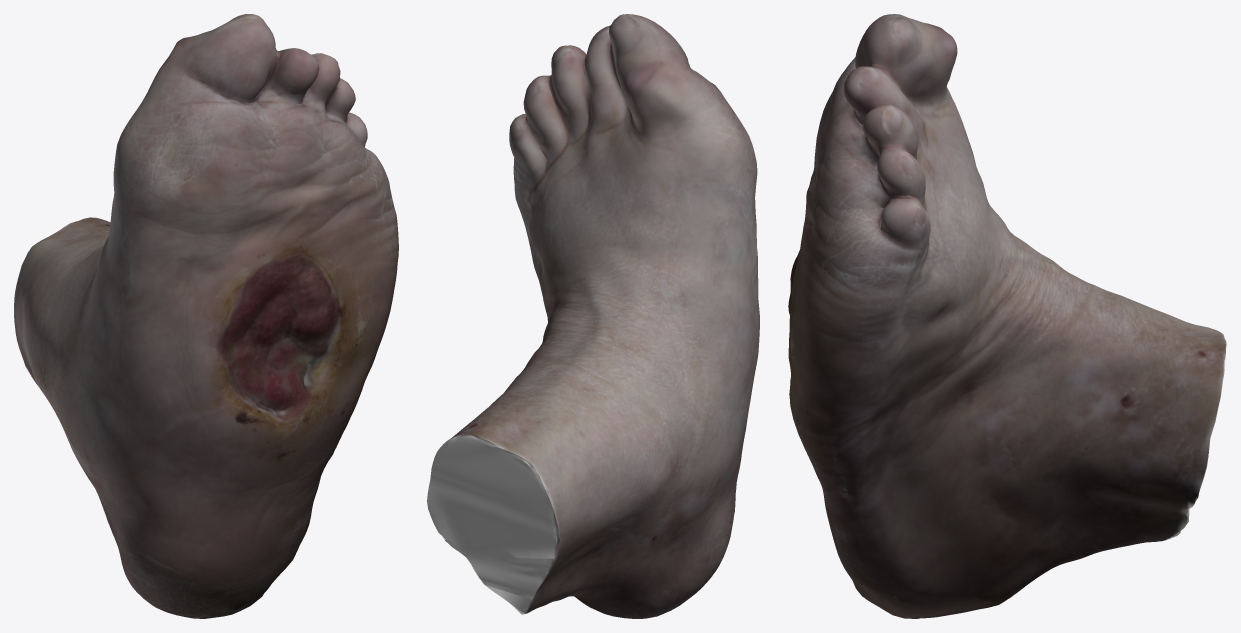
Rendered from JanelleFoot_first.glb.
3 renders of one model, left to right at view 1: azimuth 30°, elevation 25°; view 2: azimuth 150°, elevation 25°; view 3: azimuth 270°, elevation 25°, orthographic. The views are drawn at different scales.
Visible parts, largest first — view 1: LP_Foot_mesh.001; view 2: LP_Foot_mesh.001; view 3: LP_Foot_mesh.001.
Part boxes in pixels (<box>): LP_Foot_mesh.001: <box>14,14,398,618</box>; LP_Foot_mesh.001: <box>427,14,759,618</box>; LP_Foot_mesh.001: <box>788,14,1226,618</box>.
Size of the model in its own units: 0.0811 by 0.1773 by 0.1151.
Materials: 1 (1 with a texture image).
